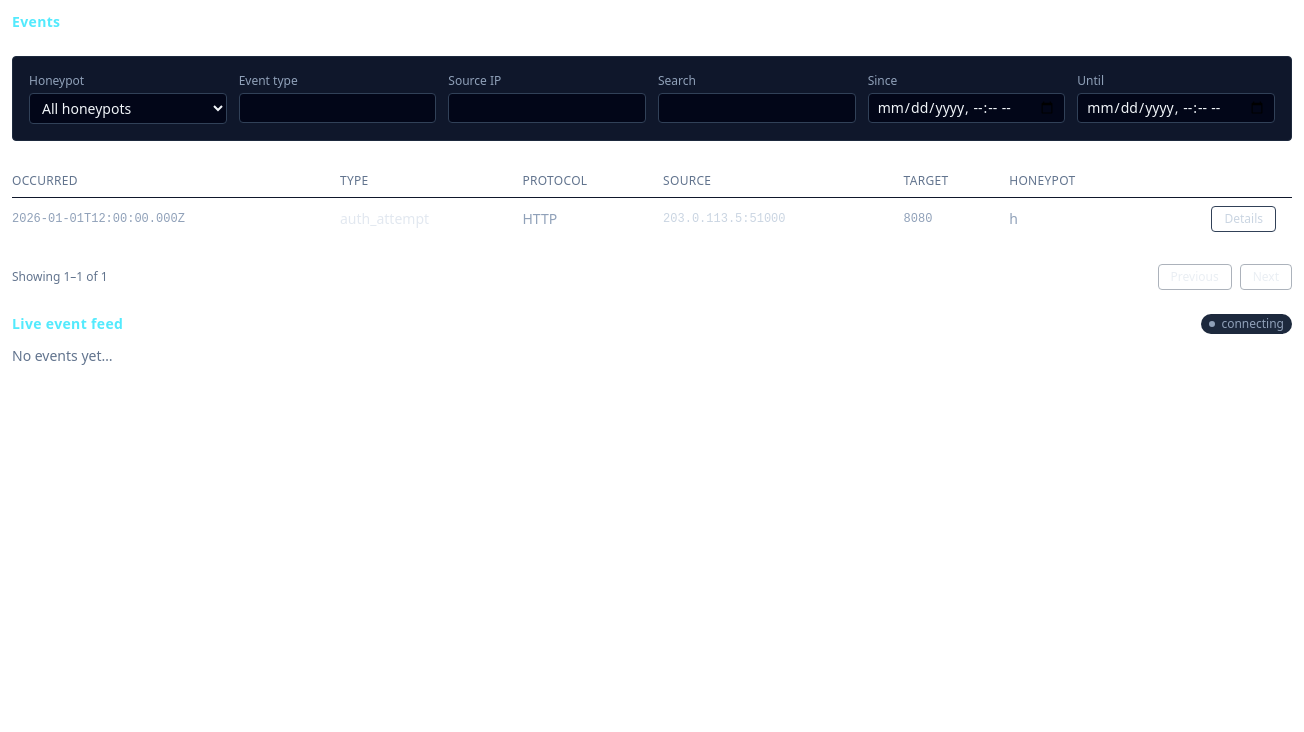
Test case: reveals a row's details only when asked
Click the button "Details".
click(1244, 219)  # box [1212, 206, 1276, 232]
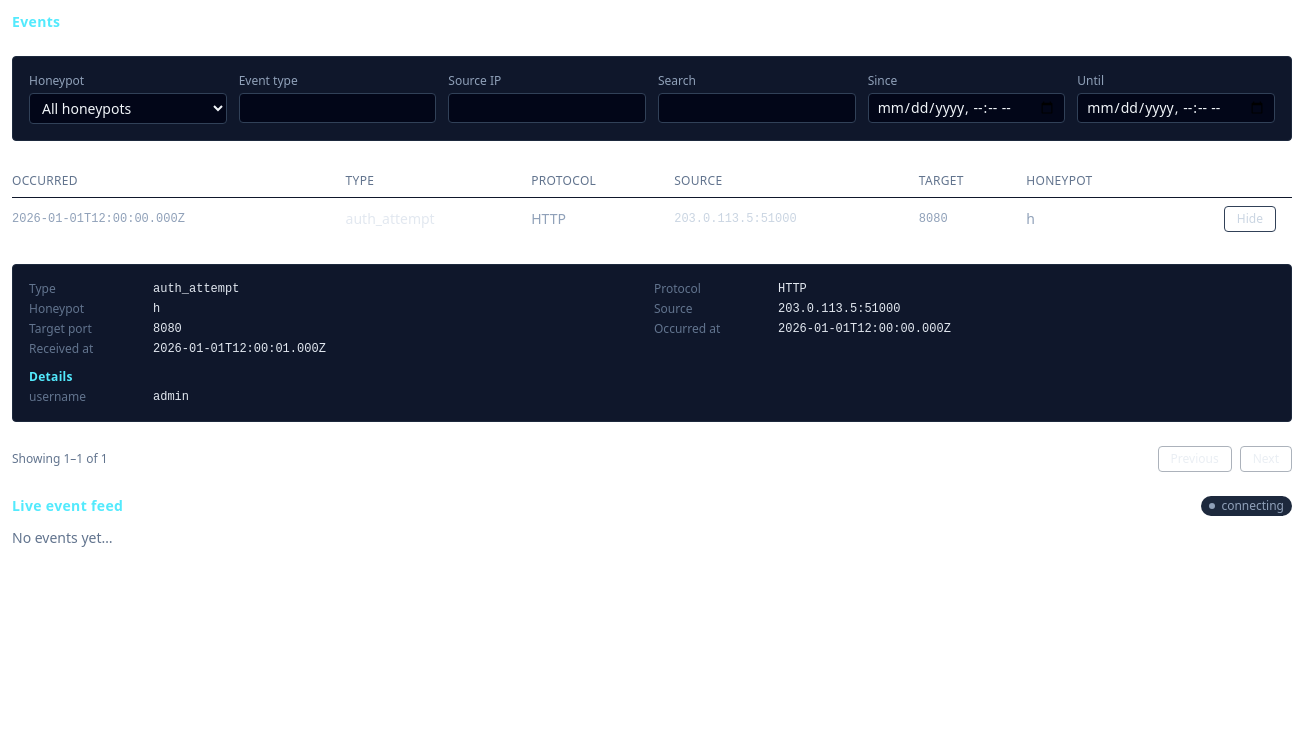
Check: the text "Occurred at" is shown, box [654, 320, 720, 337]
Check: the text "admin" is shown, box [153, 389, 189, 405]
